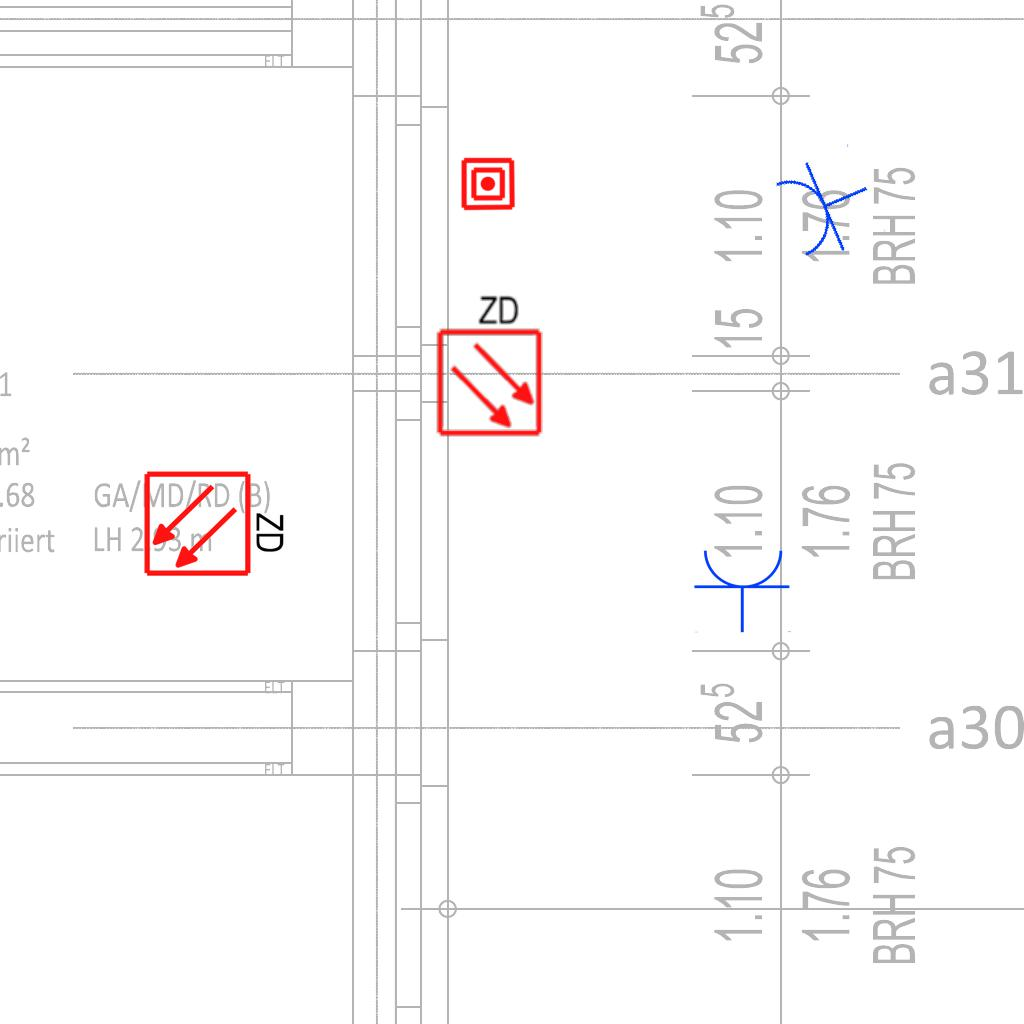NAM-Nichtautomatischer_Melder: (460, 156, 516, 212)
Schukosteckdose_einfach: (767, 141, 887, 268), (693, 546, 793, 633)
ZD_Melder_in_Zwischendecke_mit_Revisionsoeffnung_mind_40_x_40_cm: (142, 465, 291, 579), (431, 289, 545, 438)
